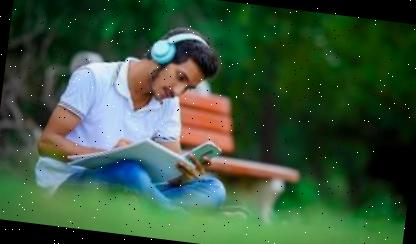person: (25, 7, 274, 227)
